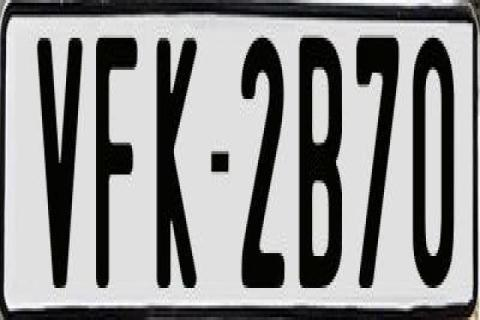0: (412, 35, 458, 303), (240, 29, 284, 294), (356, 38, 402, 291)
B: (299, 38, 347, 300)
F: (93, 29, 137, 291)
K: (156, 38, 198, 294)
V: (36, 35, 84, 285)
